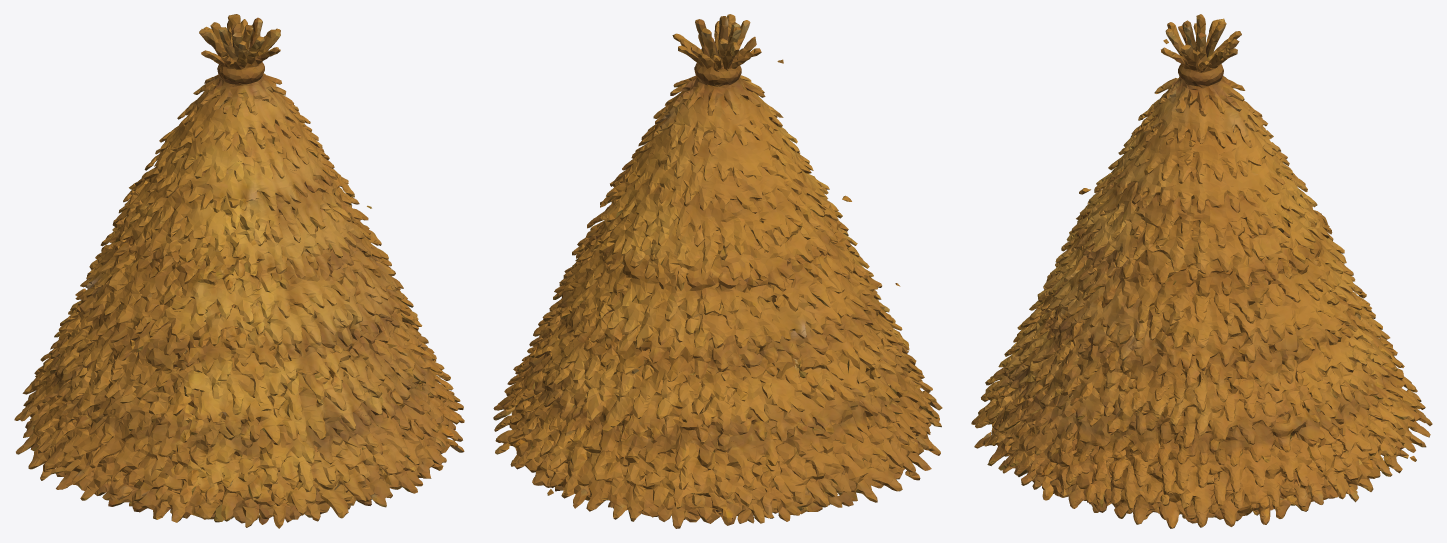
The model's file is prop-haystack.glb.
The picture shows the model from 3 angles, left to right: view 1: azimuth 30°, elevation 25°; view 2: azimuth 150°, elevation 25°; view 3: azimuth 270°, elevation 25°; orthographic projection.
Parts seen in each view (by area): view 1: geometry_0; view 2: geometry_0; view 3: geometry_0.
Part boxes in pixels (x1=…): geometry_0: x1=14, y1=14, x2=464, y2=528; geometry_0: x1=493, y1=14, x2=942, y2=528; geometry_0: x1=971, y1=14, x2=1432, y2=528.
Bounding box in the file's own units: 1.97 × 1.99 × 1.97.
Materials: 1 (1 with a texture image).
